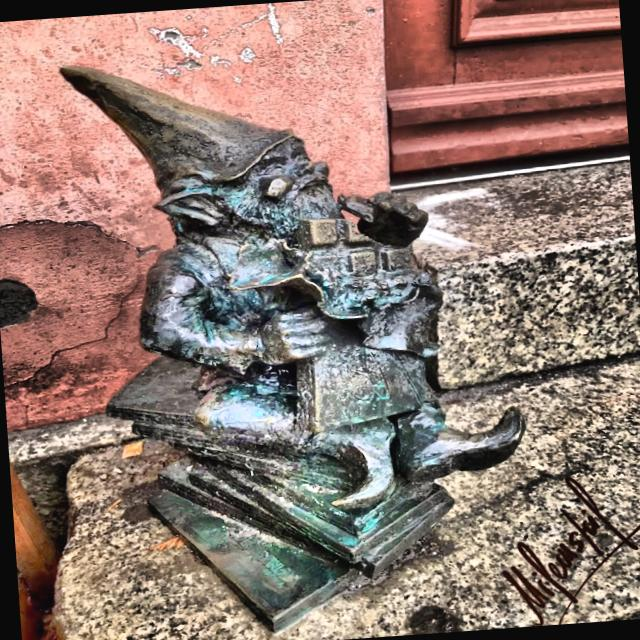Wedelek: (62, 67, 522, 630)
